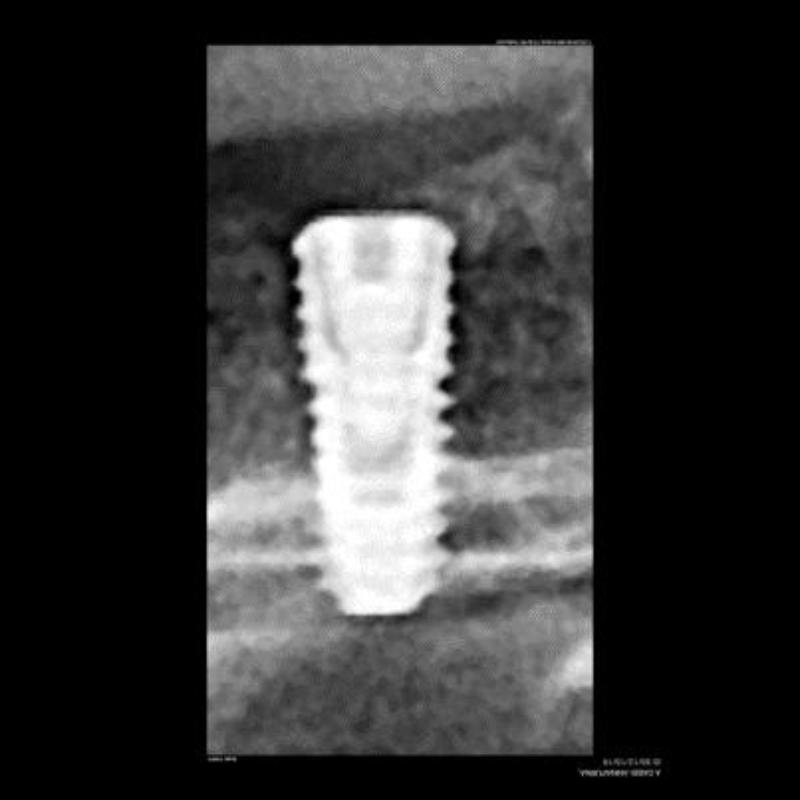osstem: (286, 198, 482, 614)
